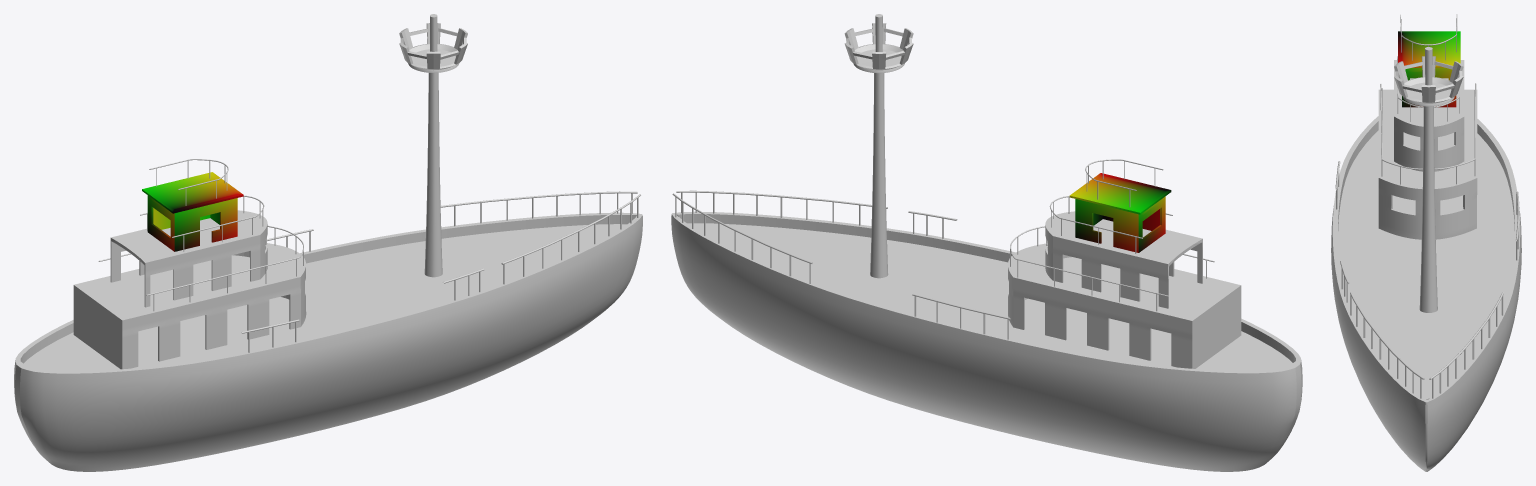
The model's file is shipwreck.fbx.
3 renders of one model, left to right at view 1: azimuth 30°, elevation 25°; view 2: azimuth 150°, elevation 25°; view 3: azimuth 270°, elevation 25°, orthographic.
Visible parts, largest first — view 1: Box001; view 2: Box001; view 3: Box001.
Part boxes in pixels (bbox=[...]): Box001: bbox=[14, 14, 642, 471]; Box001: bbox=[671, 14, 1302, 471]; Box001: bbox=[1331, 14, 1521, 471].
Bounding box in the file's own units: 4707 × 2761 × 1231.
